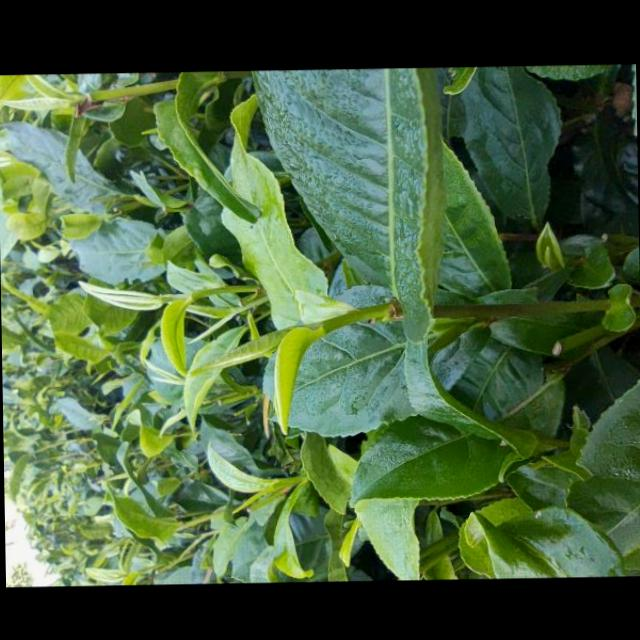Stem: (320, 317, 336, 334), (191, 290, 201, 301)
